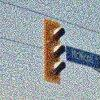traffic lights: (45, 20, 68, 86)
